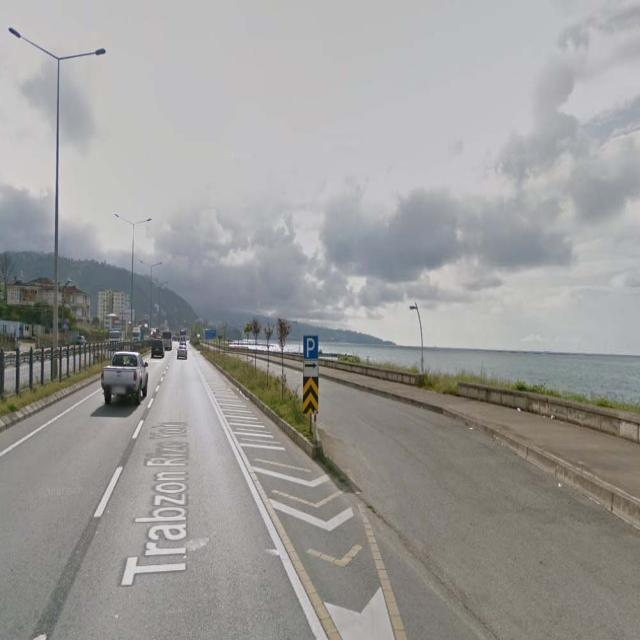park: (303, 335, 319, 359)
